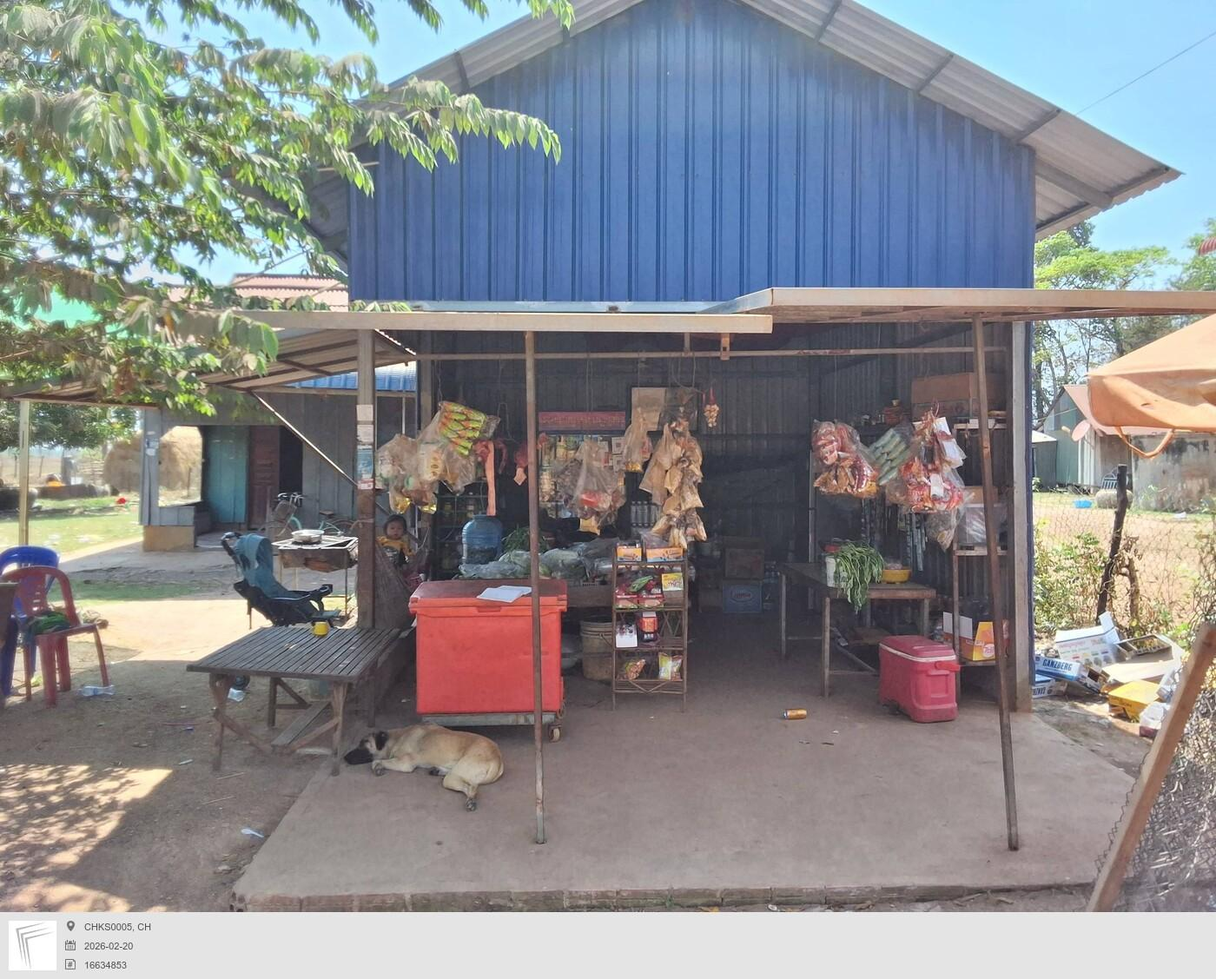cigarette_pack: (1064, 314, 1216, 456)
